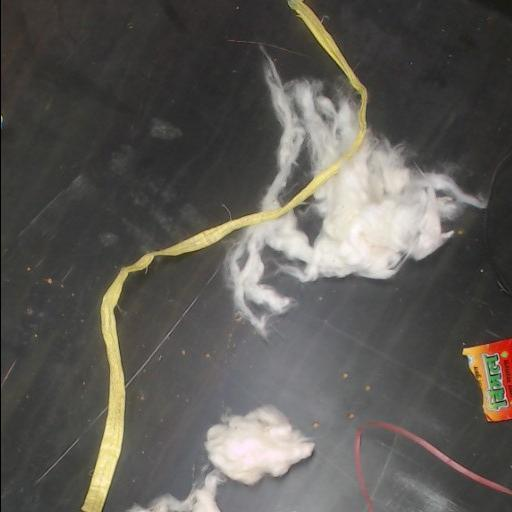conveyor belt: (105, 0, 512, 511), (1, 0, 348, 511), (363, 432, 512, 511)
cotton: (227, 128, 484, 335), (127, 405, 314, 511), (261, 61, 354, 208)
packet: (462, 338, 512, 422)
thread: (82, 0, 367, 511), (355, 420, 512, 511)
